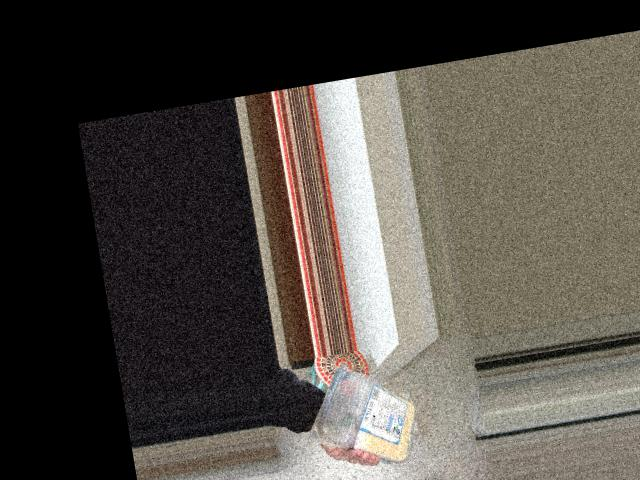cheese: (314, 358, 425, 460)
